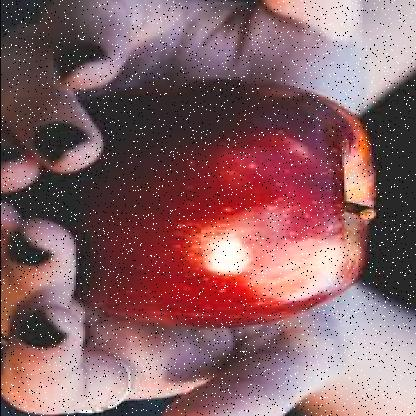apple: (75, 90, 371, 324)
